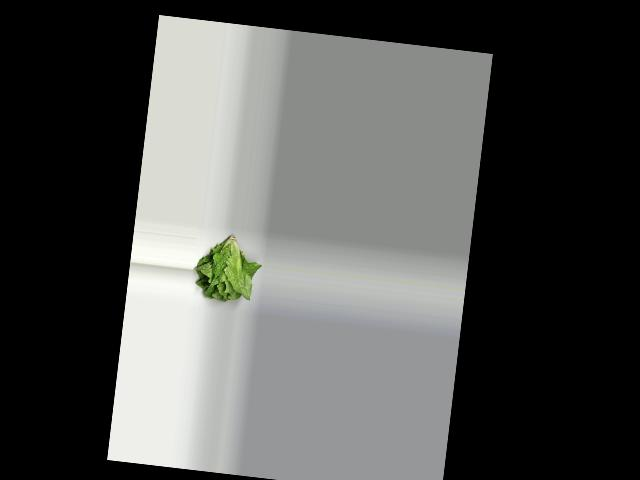lettuce: (192, 229, 264, 305)
